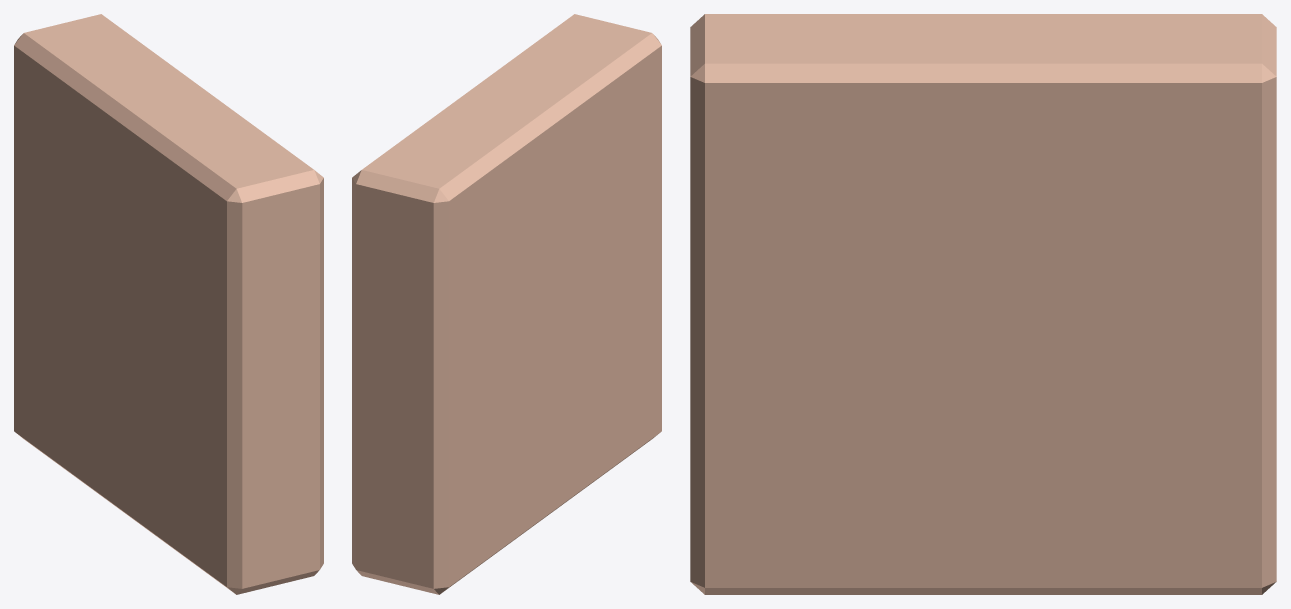
File: Condom_Box.fbx
3 views of the same model, side by side, from view 1: azimuth 30°, elevation 25°; view 2: azimuth 150°, elevation 25°; view 3: azimuth 270°, elevation 25° (orthographic). The views are drawn at different scales.
Visible parts, largest first — view 1: Condom_Box; view 2: Condom_Box; view 3: Condom_Box.
Boxes of the visible parts, x1=… form: Condom_Box: x1=14, y1=14, x2=323, y2=594; Condom_Box: x1=352, y1=14, x2=661, y2=594; Condom_Box: x1=690, y1=14, x2=1276, y2=594.
Bounding box in the file's own units: 0.5 × 2 × 2.
